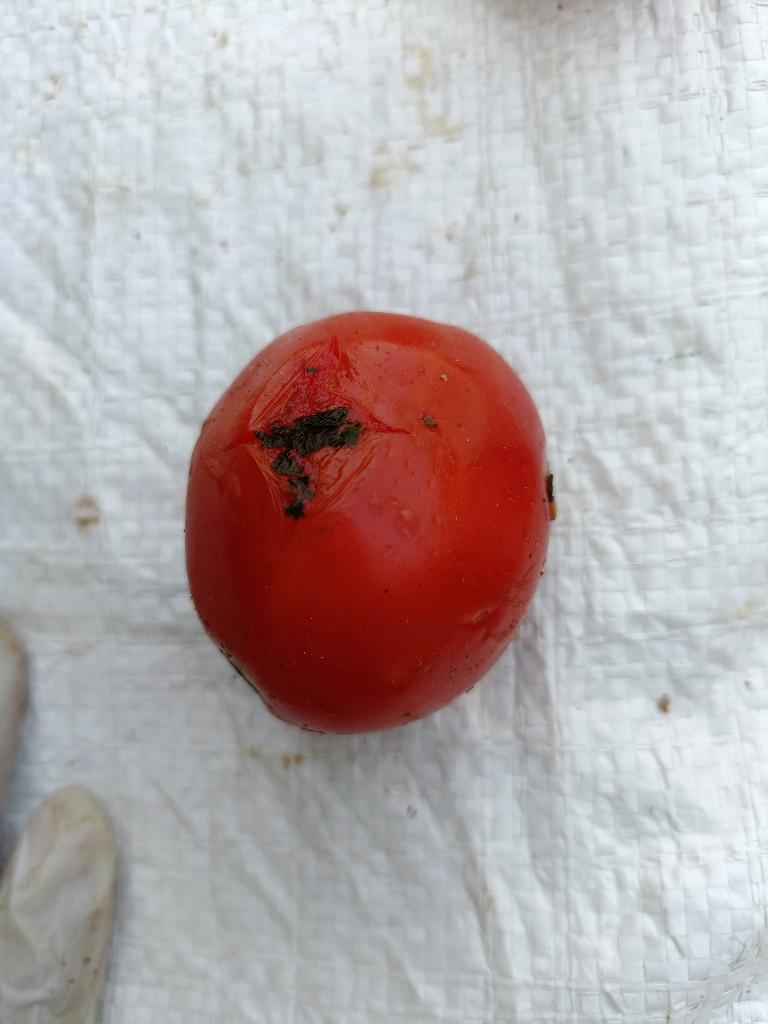rot_mold_decay: (254, 406, 362, 496), (285, 497, 303, 516)
surface_damage: (249, 335, 409, 520)
tomato: (186, 313, 554, 733)
